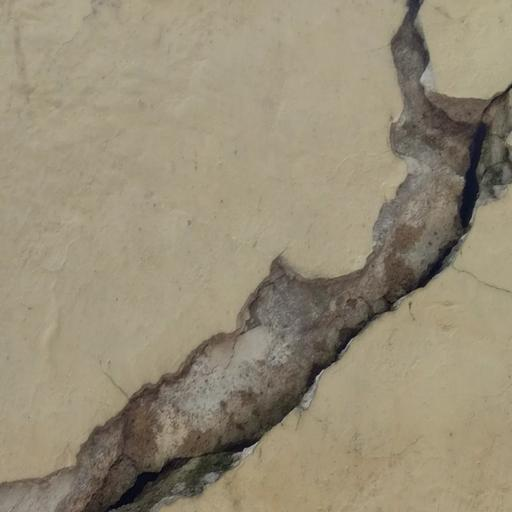spalling: (30, 32, 512, 512)
